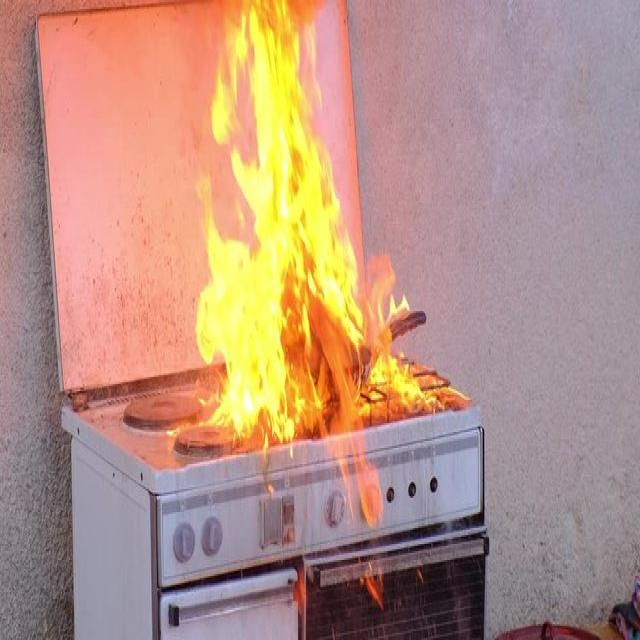fire: (213, 13, 415, 443)
